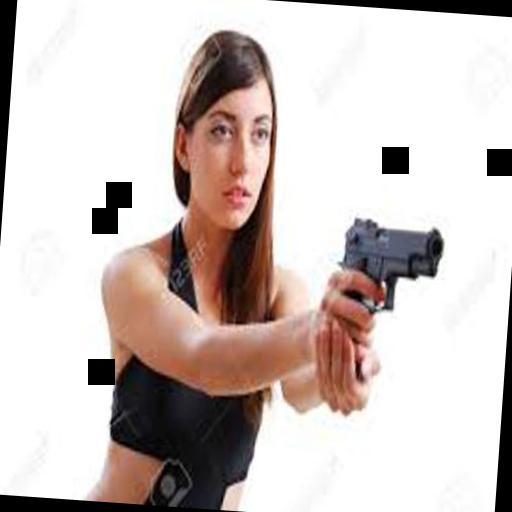Handgun: (318, 204, 446, 370)
